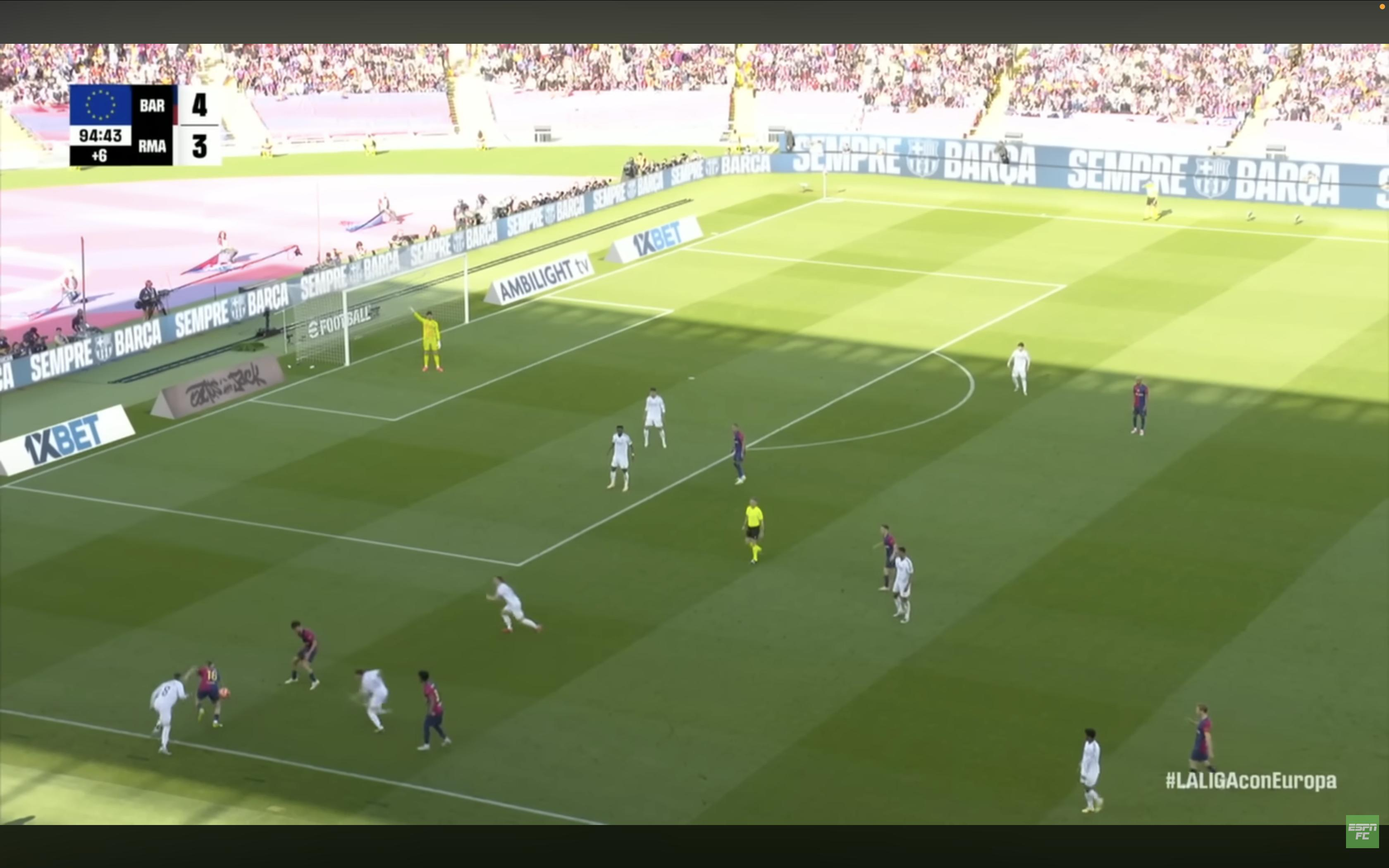ball: (219, 687, 231, 699)
goalkeeper: (412, 308, 441, 372)
player: (487, 576, 542, 633), (150, 673, 187, 754), (184, 659, 224, 730), (418, 670, 451, 751), (285, 620, 319, 689), (1079, 728, 1103, 813), (356, 669, 388, 732), (1188, 704, 1216, 773), (607, 426, 634, 491), (892, 546, 914, 623), (644, 387, 666, 448), (1007, 342, 1030, 396), (880, 525, 896, 591), (1131, 377, 1148, 436), (731, 424, 745, 484)
referee: (743, 499, 764, 563), (1144, 179, 1162, 220)
